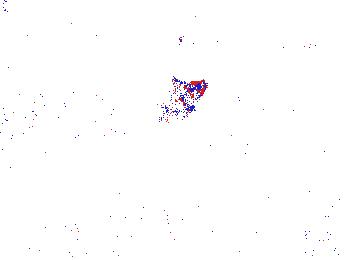X-ray fish: (163, 76, 210, 116)
red belly glassfish: (286, 37, 318, 56)
